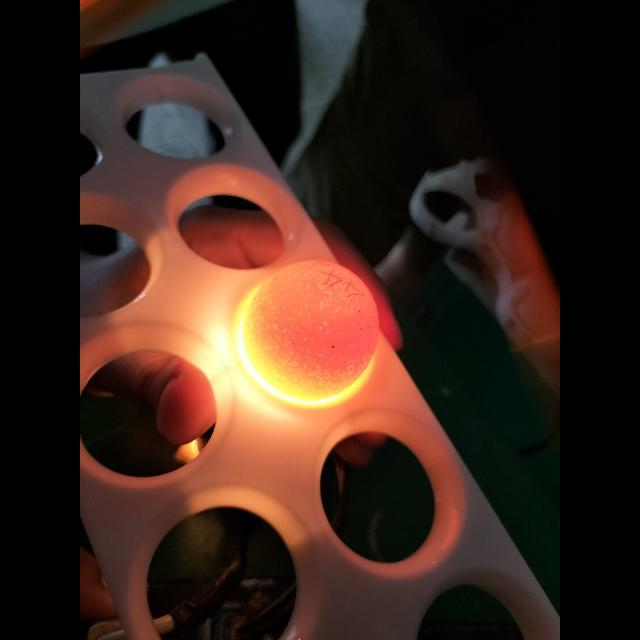Infertile: (240, 258, 380, 404)
